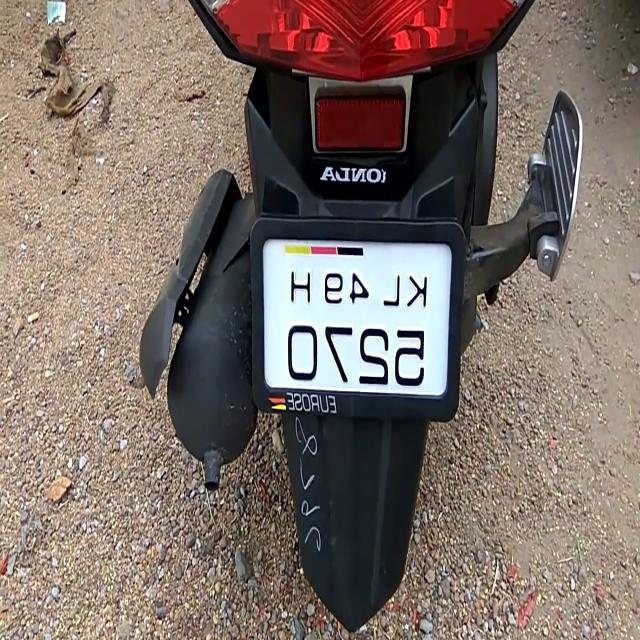license_plate: (248, 218, 465, 419)
